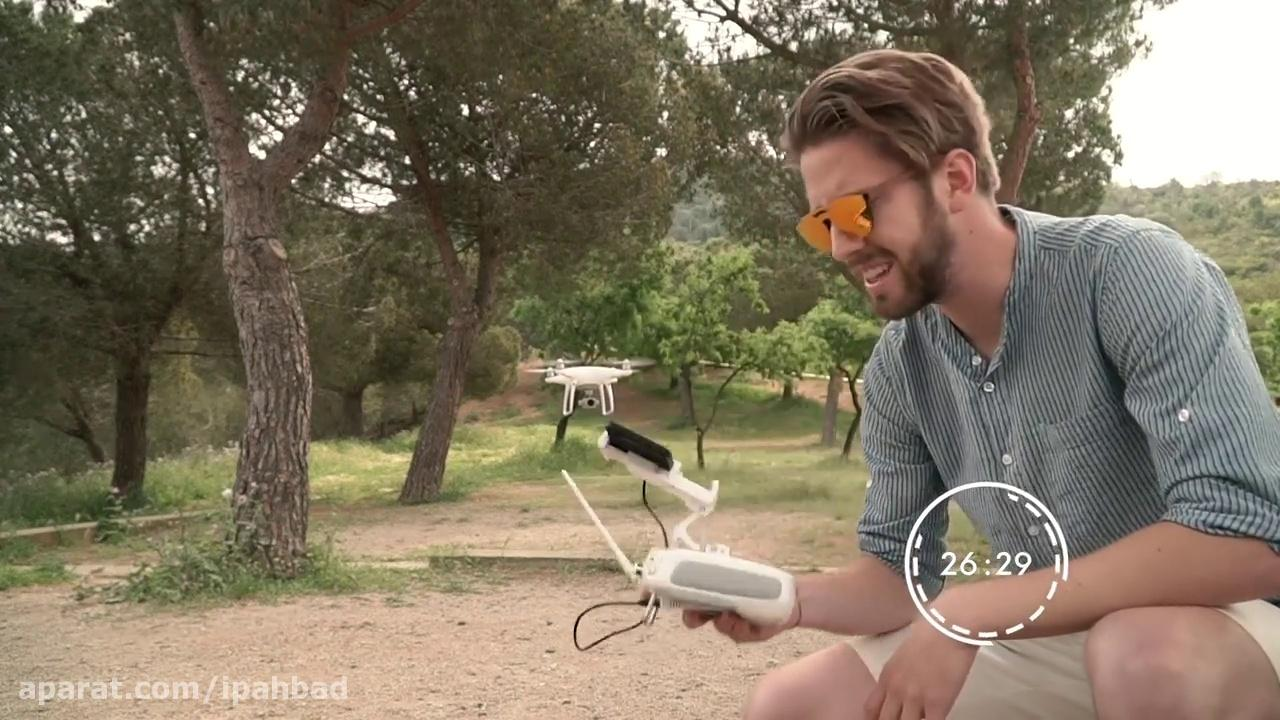drone: (531, 348, 652, 418)
